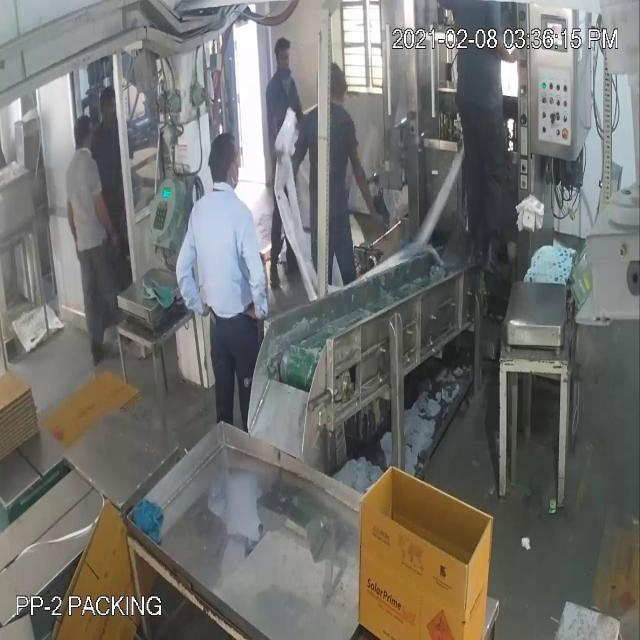No_Gloves: (28, 50, 506, 276)
